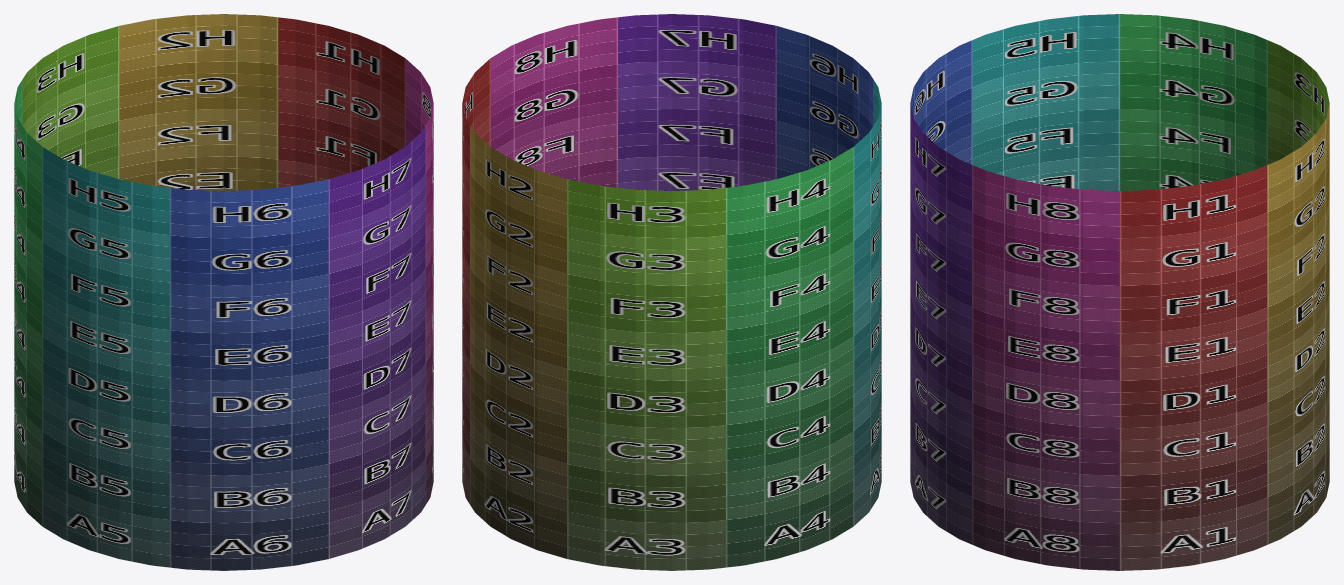
Rendered from Beacon.fbx.
3 views of the same model, side by side, from view 1: azimuth 30°, elevation 25°; view 2: azimuth 150°, elevation 25°; view 3: azimuth 270°, elevation 25° (orthographic).
Parts seen in each view (by area): view 1: Cylinder; view 2: Cylinder; view 3: Cylinder.
Boxes of the visible parts, left/top/right/bottom form: Cylinder: left=14, top=14, right=433, bottom=570; Cylinder: left=462, top=14, right=881, bottom=570; Cylinder: left=910, top=14, right=1329, bottom=570.
Size of the model in its own units: 100 by 100 by 100.
1 material, 1 textured.
